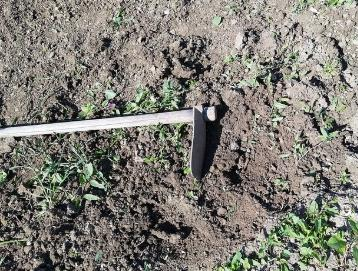HOUE: (0, 101, 216, 199)
